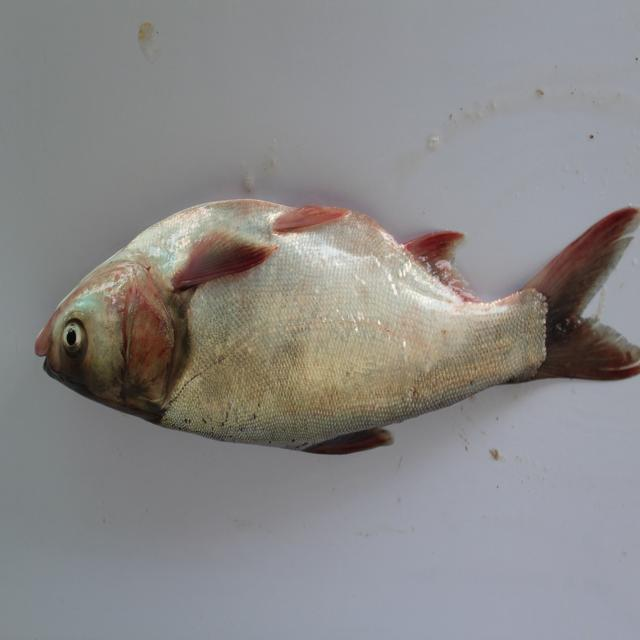SilverCarp: (24, 176, 636, 456)
